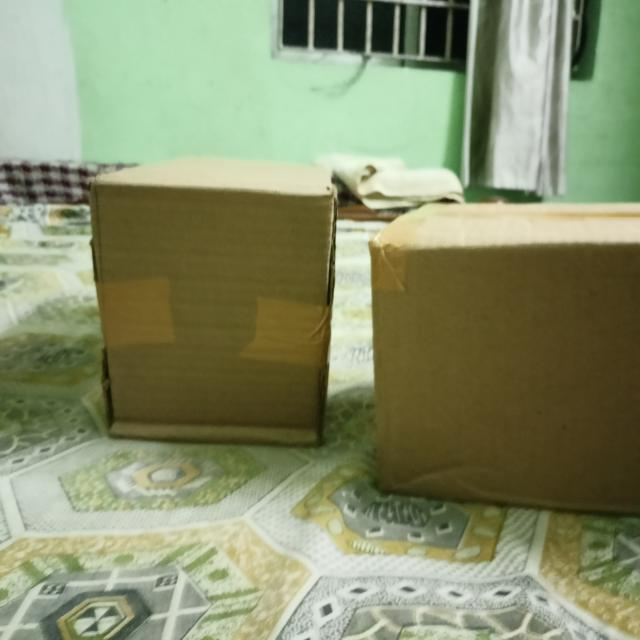box: (94, 184, 334, 445)
